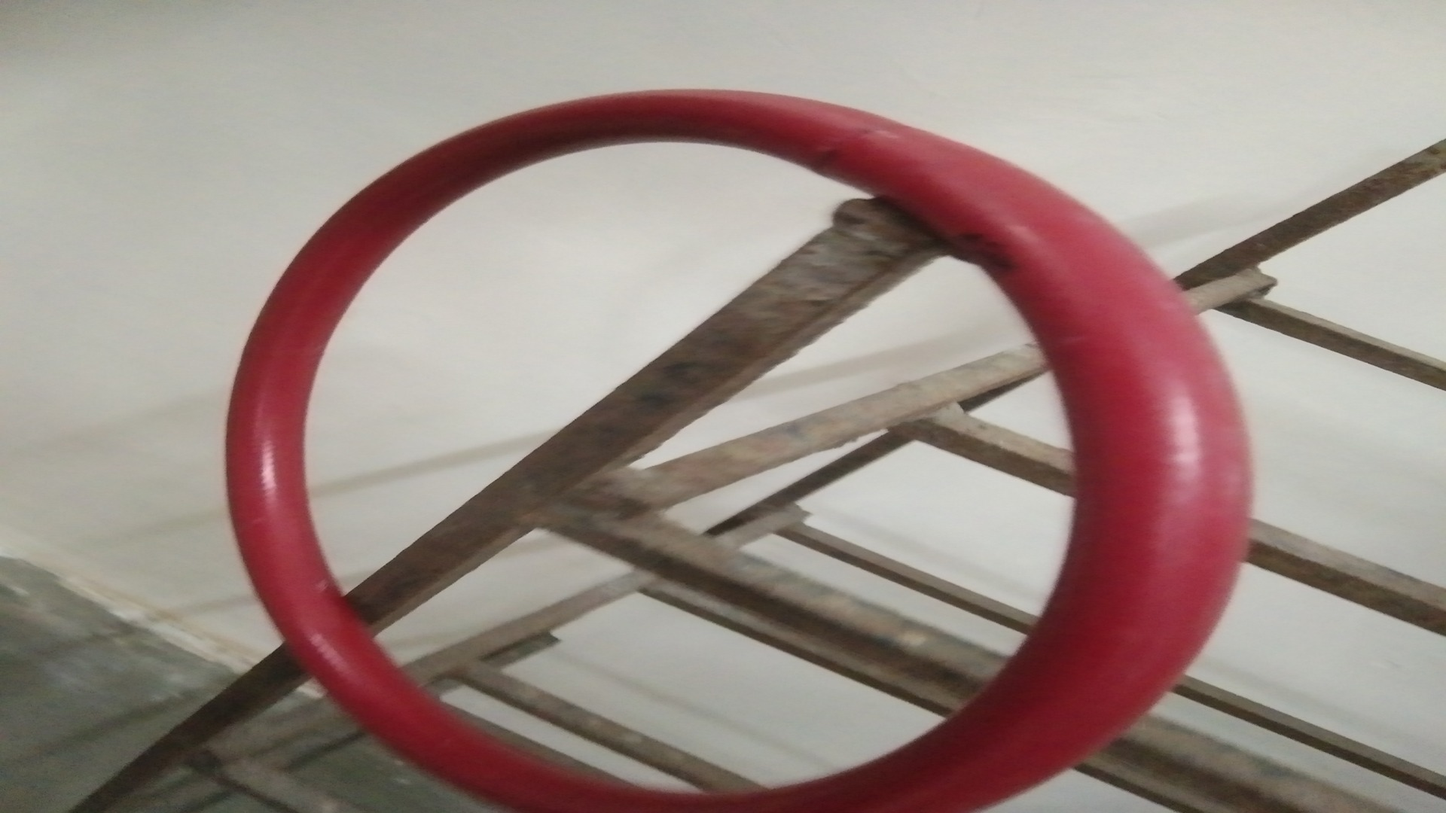Red ring: (227, 86, 1238, 813)
